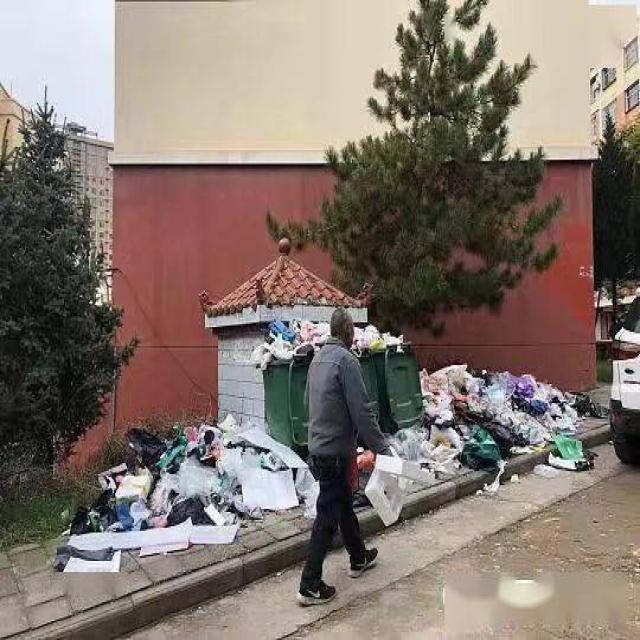garbage: (352, 362, 614, 526), (55, 414, 318, 570)
overflow: (248, 319, 309, 452), (352, 326, 425, 432)
